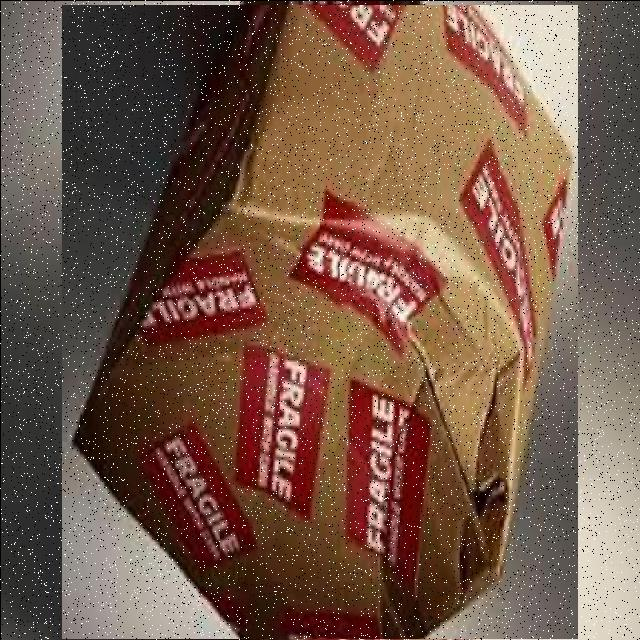defect: (61, 4, 577, 638)
